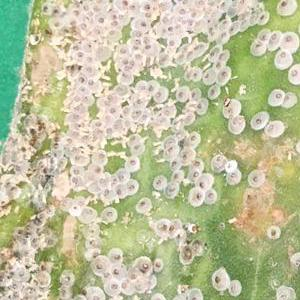Femea: (98, 174, 135, 199), (202, 70, 229, 96), (214, 153, 239, 181), (92, 255, 121, 279), (132, 81, 163, 102), (130, 28, 153, 56), (154, 172, 183, 194), (189, 179, 216, 201), (114, 44, 133, 71), (175, 0, 205, 16), (221, 104, 241, 128), (166, 144, 186, 168), (128, 259, 150, 280), (77, 66, 93, 92), (103, 281, 130, 295), (138, 3, 152, 28), (208, 48, 226, 67), (273, 90, 293, 107), (97, 11, 116, 28), (92, 151, 107, 172), (212, 271, 227, 290), (114, 0, 135, 12), (178, 87, 200, 98), (71, 166, 82, 188), (127, 134, 141, 151), (156, 221, 177, 232), (282, 32, 294, 50), (278, 0, 292, 14), (249, 173, 263, 187), (192, 161, 202, 179), (252, 113, 263, 127), (255, 37, 266, 51), (272, 30, 283, 44), (278, 51, 287, 66), (289, 66, 298, 81), (189, 131, 196, 148), (263, 26, 272, 39), (128, 158, 137, 171), (138, 199, 148, 209)
Macho: (184, 100, 196, 110), (100, 80, 113, 86), (100, 74, 112, 80), (207, 52, 214, 62), (209, 60, 214, 71)
